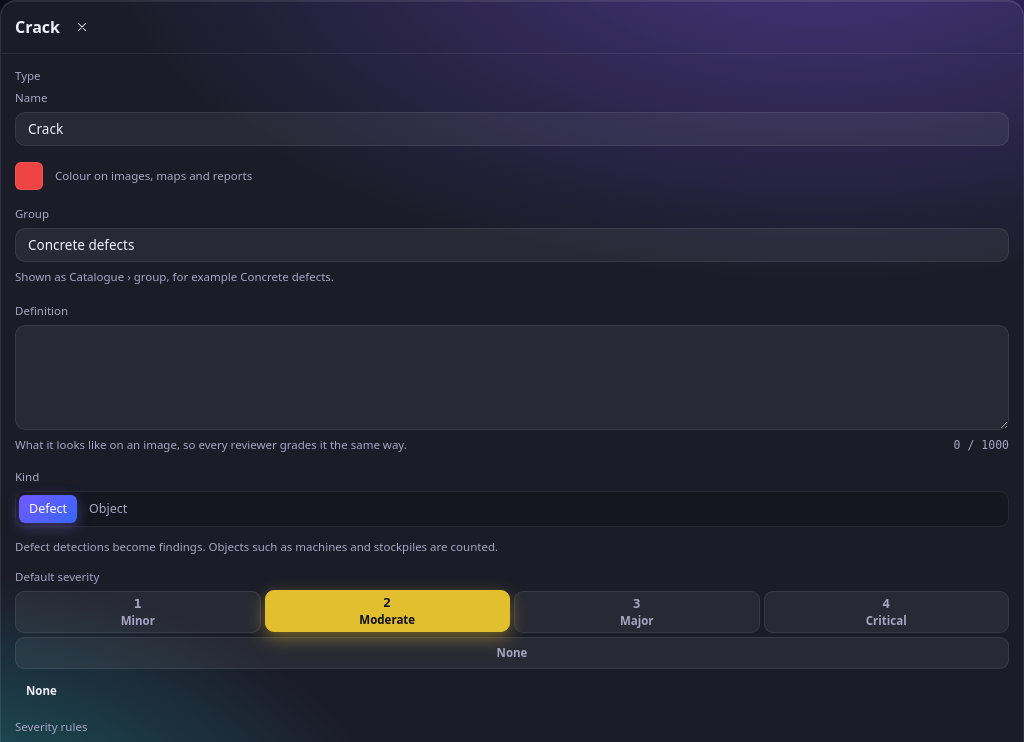
Scenario: TypeEditor › says findings are kept when a defect becomes an object, and drops the severity
This screenshot has width=1024, height=742.
Expected: the heading "Crack" is shown, x1=15 y1=16 x2=60 y2=38
Click the radio button labelled "Object".
click(108, 509)  # box x1=79 y1=495 x2=137 y2=523
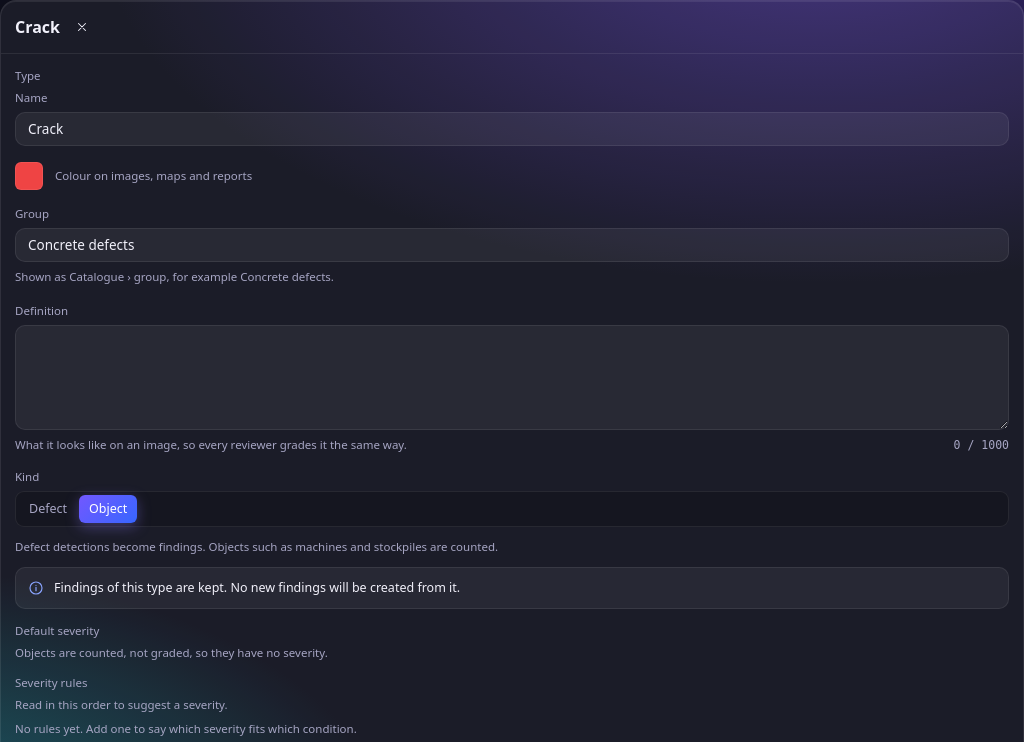
Expected: the text "Findings of this type are kept. No new findings will be created from it." is shown, x1=54 y1=579 x2=460 y2=596
Expected: the text "Objects are counted, not graded, so they have no severity." is shown, x1=15 y1=645 x2=328 y2=660
